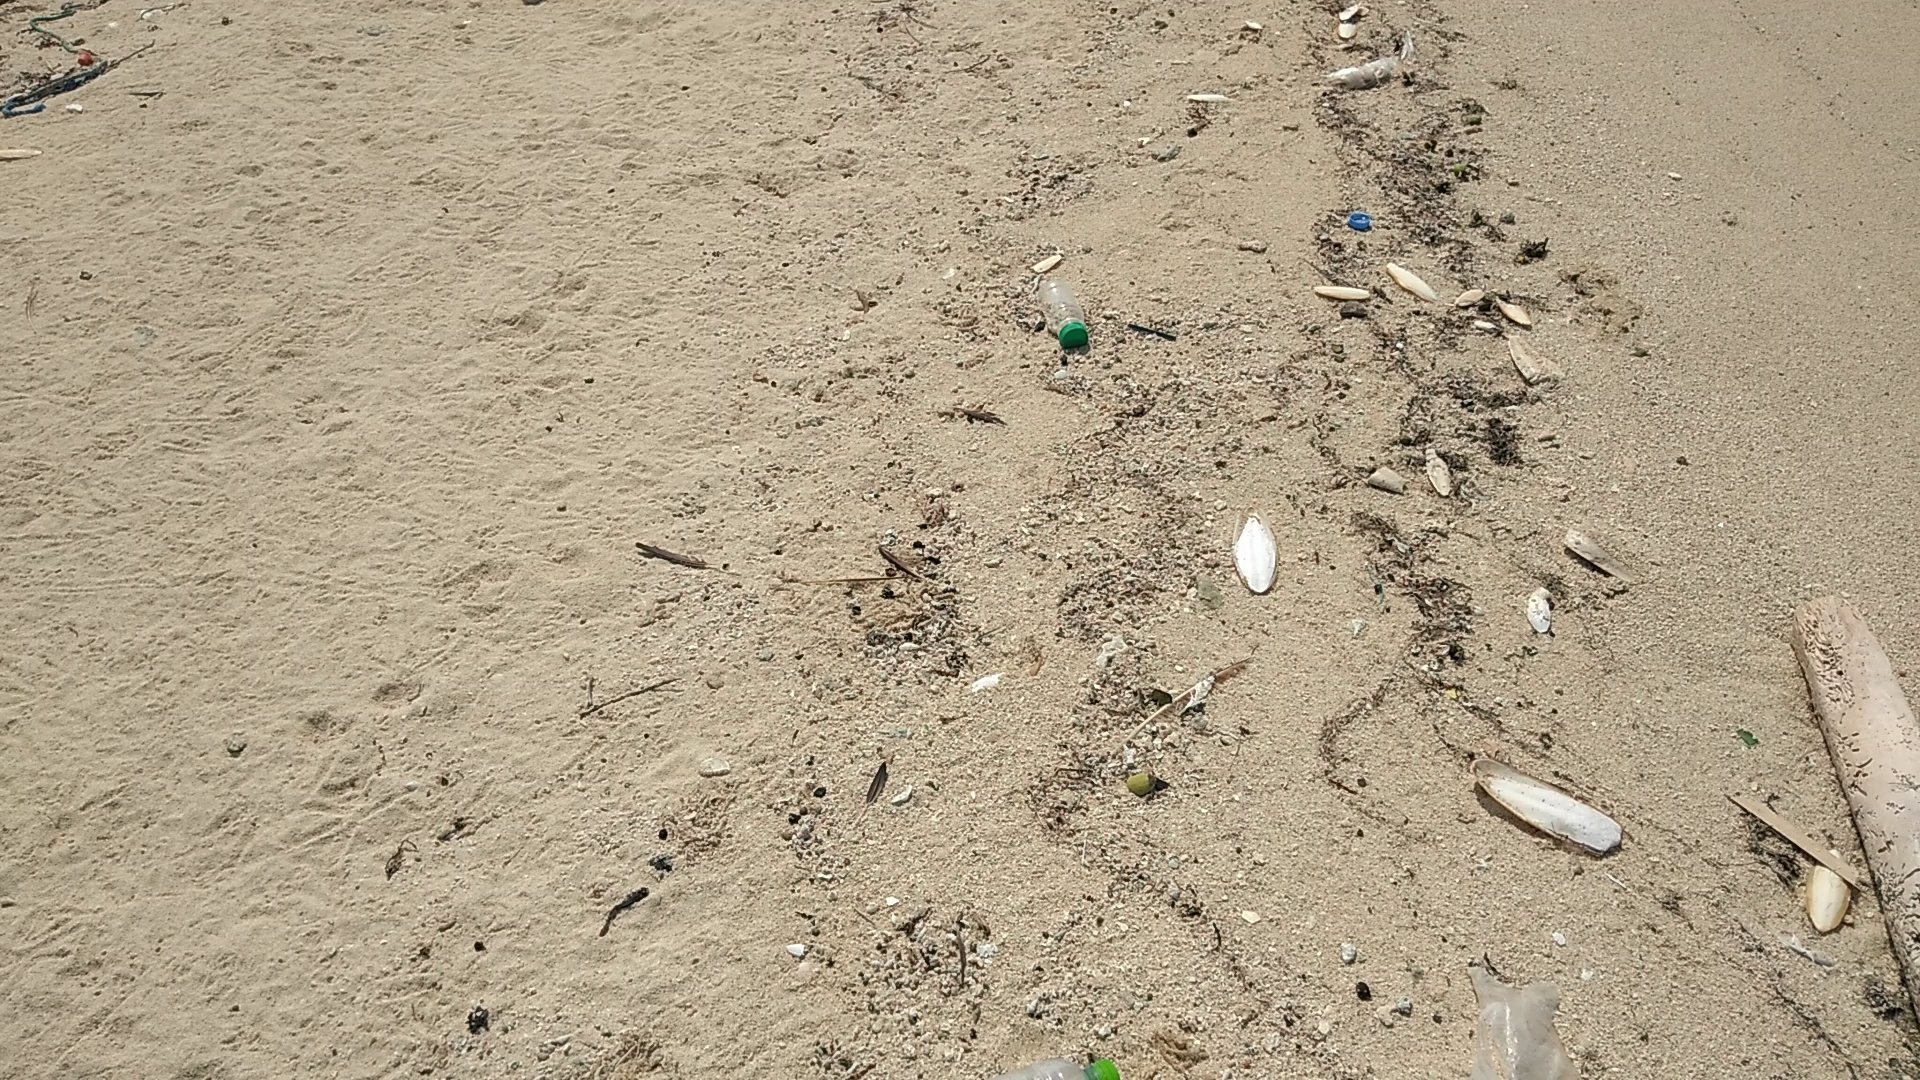plastic: (1469, 965, 1568, 1077), (1033, 278, 1104, 357)
processed wood: (1787, 595, 1920, 1015)
